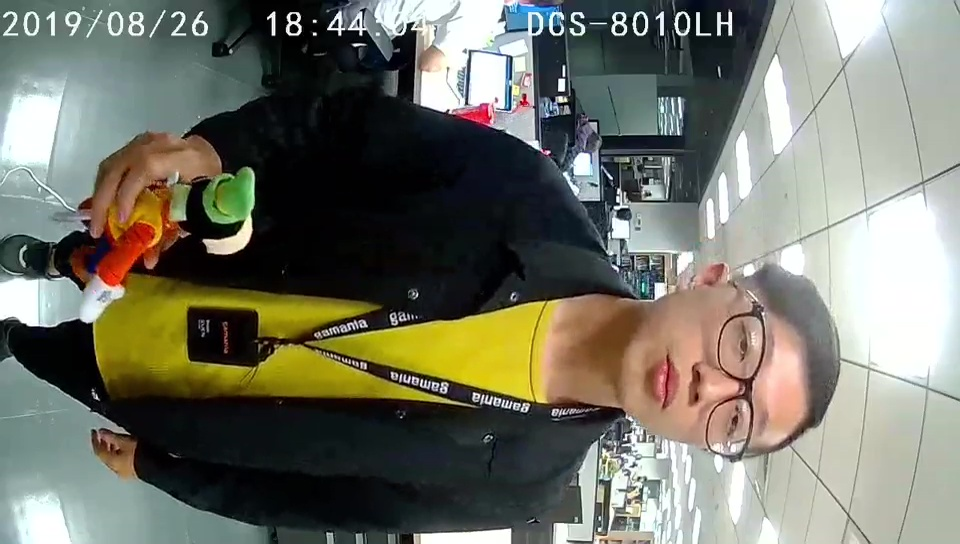goofy: (70, 167, 258, 322)
